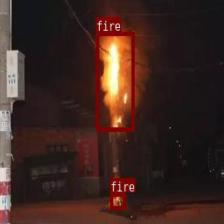fire: (96, 31, 134, 130), (110, 192, 125, 209)
